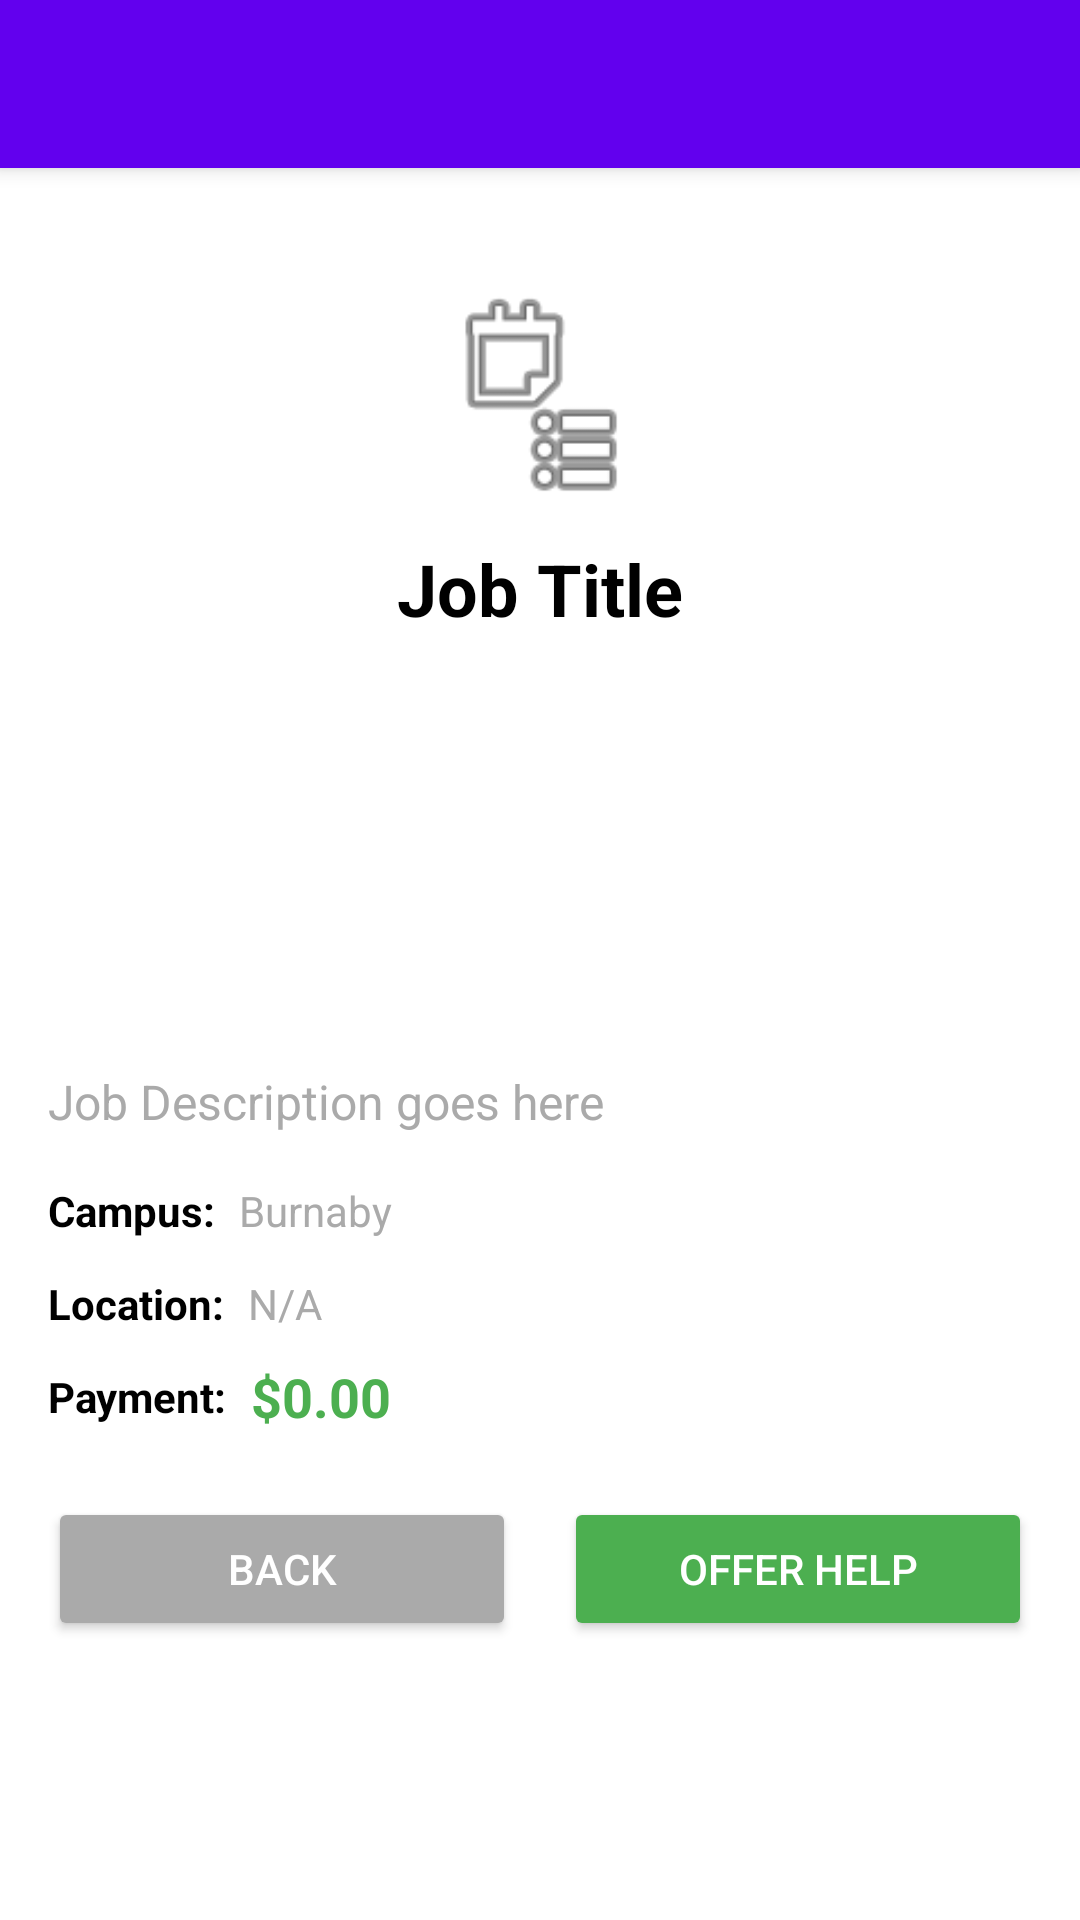

Named icons in this screenshot (1080 x 1920) and their bounding boxes, box(x1, y1, x2, y2):
agenda: box(465, 299, 617, 491)
